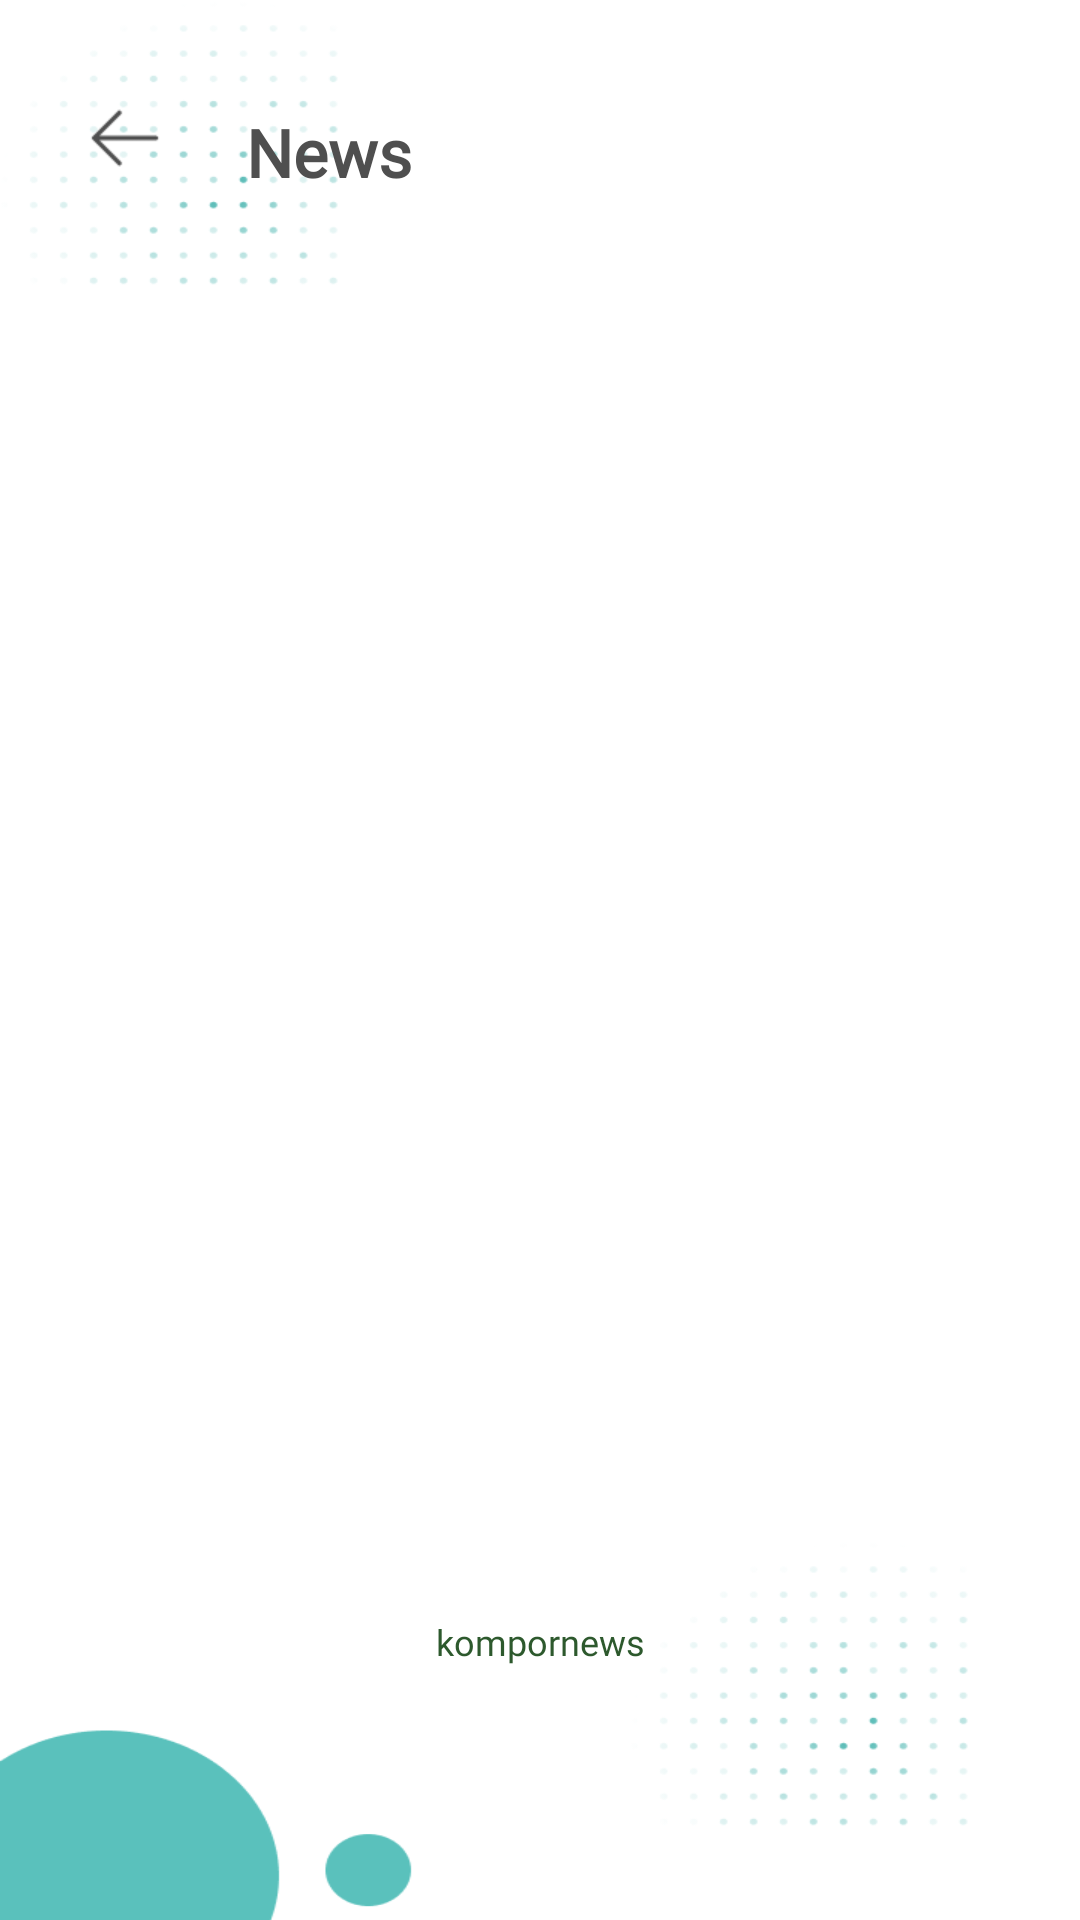

Where icons sit on this 1080px×1920px app screen, as (x1, y1, x2, y2):
backbutton: (90, 102, 159, 183)
